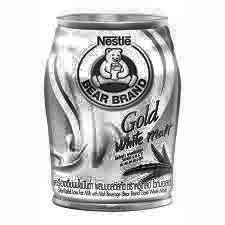can: (32, 6, 187, 215)
